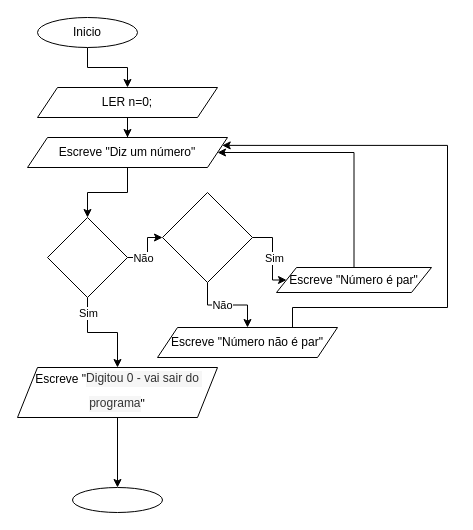
Some shapes in this 473 by 530 pixel diagram are drawn without their labels. The centre of each missing label's shape, as x and y in pixels:
Fim: point 117,499
n == 0: point 87,257
n MOD 2 == 0: point 207,237
